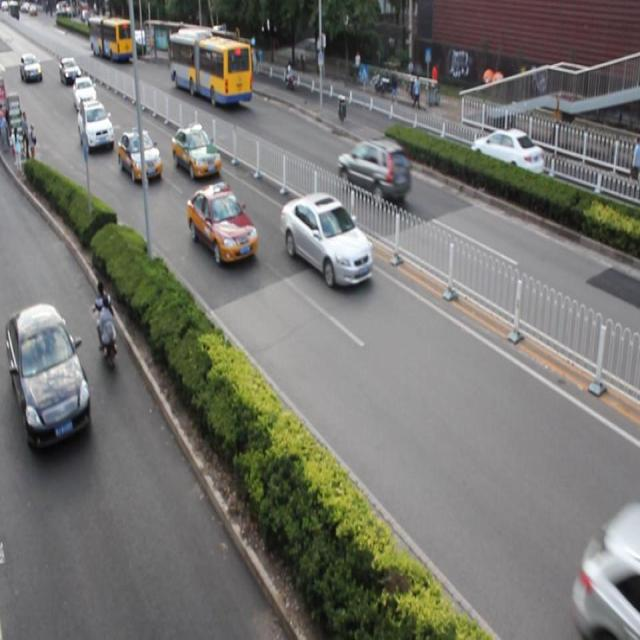car: (1, 302, 91, 448), (574, 502, 640, 640), (279, 190, 372, 286), (185, 178, 257, 260), (337, 134, 410, 207), (468, 125, 544, 187), (171, 122, 221, 179), (117, 127, 162, 182), (78, 99, 115, 153), (72, 75, 98, 111)
van: (169, 22, 252, 104)
